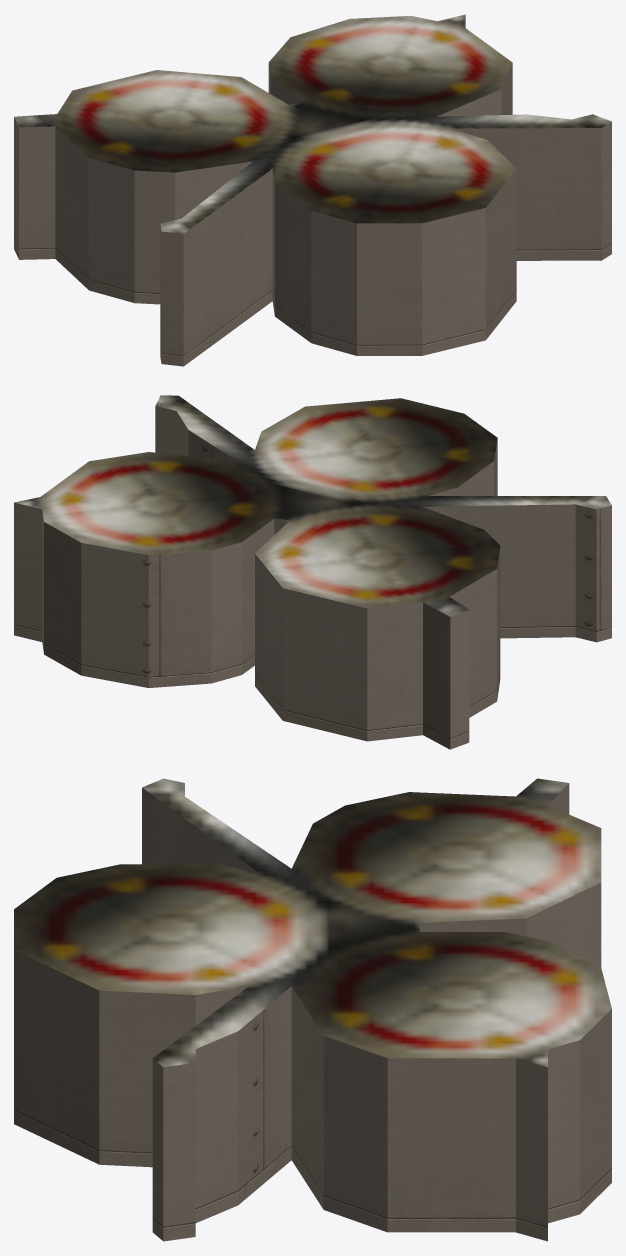
Rendered from fuel_tank_light_54.glb.
3 views of the same model, one above another, from view 1: azimuth 30°, elevation 25°; view 2: azimuth 150°, elevation 25°; view 3: azimuth 270°, elevation 25° (orthographic). The views are drawn at different scales.
Visible parts, largest first — view 1: buildings/saxarba/fuel_tanks/fuel_tank_light_54; view 2: buildings/saxarba/fuel_tanks/fuel_tank_light_54; view 3: buildings/saxarba/fuel_tanks/fuel_tank_light_54.
Boxes of the visible parts, <box> form: buildings/saxarba/fuel_tanks/fuel_tank_light_54: <box>14,14,611,366</box>; buildings/saxarba/fuel_tanks/fuel_tank_light_54: <box>14,395,611,749</box>; buildings/saxarba/fuel_tanks/fuel_tank_light_54: <box>14,778,611,1241</box>.
Bounding box in the file's own units: 64 × 18 × 56.
